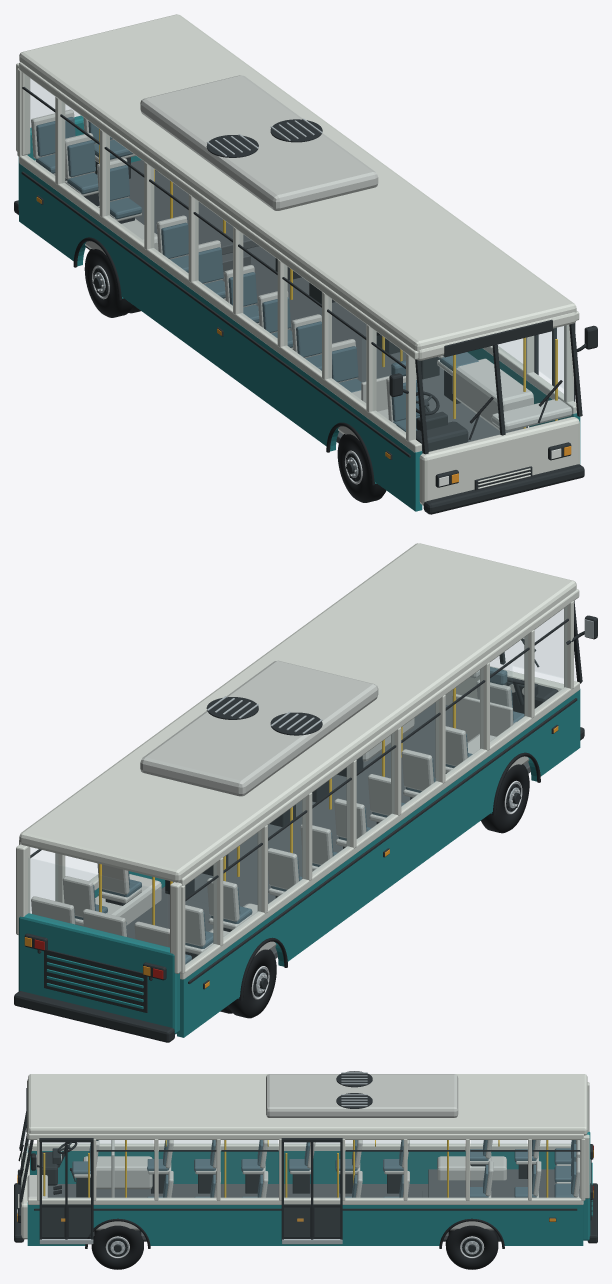
Rendered from city-urban-transit-bus.glb.
3 renders of one model, top to bottom at view 1: azimuth 30°, elevation 25°; view 2: azimuth 150°, elevation 25°; view 3: azimuth 270°, elevation 25°, orthographic. The views are drawn at different scales.
Parts seen in each view (by area): view 1: Assembly | Warm ivory body paint, Assembly | Light warm interior lining, Assembly | Deep muted teal paint, Assembly | Graphite chassis and trim, Assembly | Blue grey seat upholstery, Assembly | Non slip dark interior floor, Assembly | Charcoal tire and seal rubber, Assembly | Lightly tinted alpha blended glazing, Assembly | Warm yellow handrail coating, Assembly | Satin aluminium and plated steel; view 2: Assembly | Warm ivory body paint, Assembly | Light warm interior lining, Assembly | Deep muted teal paint, Assembly | Graphite chassis and trim, Assembly | Non slip dark interior floor, Assembly | Lightly tinted alpha blended glazing, Assembly | Charcoal tire and seal rubber, Assembly | Blue grey seat upholstery, Assembly | Satin aluminium and plated steel, Assembly | Warm yellow handrail coating; view 3: Assembly | Warm ivory body paint, Assembly | Deep muted teal paint, Assembly | Light warm interior lining, Assembly | Graphite chassis and trim, Assembly | Non slip dark interior floor, Assembly | Blue grey seat upholstery, Assembly | Charcoal tire and seal rubber, Assembly | Lightly tinted alpha blended glazing, Assembly | Satin aluminium and plated steel, Assembly | Warm yellow handrail coating, Assembly | Polished metal detail.
Boxes of the visible parts, <box> form: Assembly | Warm ivory body paint: <box>16,14,579,505</box>; Assembly | Light warm interior lining: <box>31,75,571,440</box>; Assembly | Deep muted teal paint: <box>18,115,580,511</box>; Assembly | Graphite chassis and trim: <box>14,87,597,514</box>; Assembly | Blue grey seat upholstery: <box>36,117,478,431</box>; Assembly | Non slip dark interior floor: <box>129,160,526,443</box>; Assembly | Charcoal tire and seal rubber: <box>73,237,562,502</box>; Assembly | Lightly tinted alpha blended glazing: <box>30,79,563,388</box>; Assembly | Warm yellow handrail coating: <box>99,129,557,428</box>; Assembly | Satin aluminium and plated steel: <box>94,118,584,482</box>; Assembly | Warm ivory body paint: <box>16,543,579,979</box>; Assembly | Light warm interior lining: <box>31,660,529,955</box>; Assembly | Deep muted teal paint: <box>18,689,580,1037</box>; Assembly | Graphite chassis and trim: <box>14,601,597,1042</box>; Assembly | Non slip dark interior floor: <box>126,702,530,958</box>; Assembly | Lightly tinted alpha blended glazing: <box>30,609,563,913</box>; Assembly | Charcoal tire and seal rubber: <box>220,638,540,1018</box>; Assembly | Blue grey seat upholstery: <box>74,667,524,964</box>; Assembly | Satin aluminium and plated steel: <box>206,619,593,997</box>; Assembly | Warm yellow handrail coating: <box>99,687,455,925</box>; Assembly | Warm ivory body paint: <box>18,1074,589,1239</box>; Assembly | Deep muted teal paint: <box>27,1132,592,1245</box>; Assembly | Light warm interior lining: <box>27,1074,579,1230</box>; Assembly | Graphite chassis and trim: <box>14,1071,597,1256</box>; Assembly | Non slip dark interior floor: <box>48,1169,579,1239</box>; Assembly | Blue grey seat upholstery: <box>72,1140,576,1197</box>; Assembly | Charcoal tire and seal rubber: <box>19,1142,504,1269</box>; Assembly | Lightly tinted alpha blended glazing: <box>42,1140,571,1153</box>; Assembly | Satin aluminium and plated steel: <box>36,1072,482,1256</box>; Assembly | Warm yellow handrail coating: <box>43,1140,548,1197</box>; Assembly | Polished metal detail: <box>105,1236,484,1258</box>.
Size of the model in its own units: 3.11 by 3.19 by 10.88.
